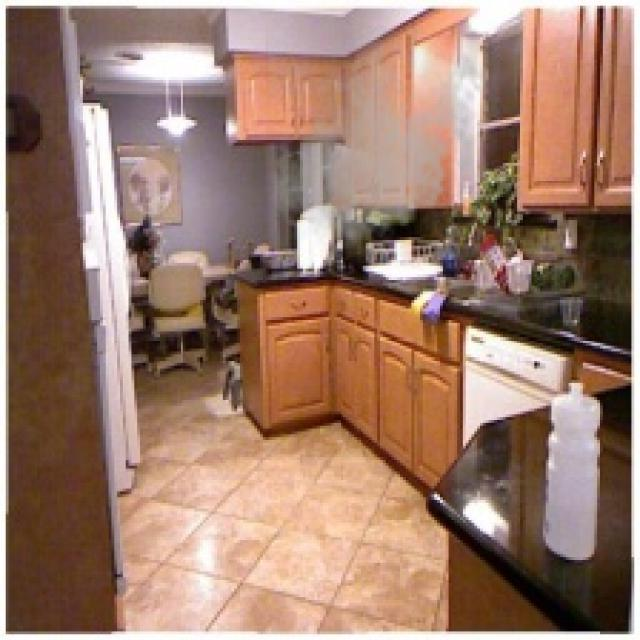smoke: (266, 26, 488, 257)
